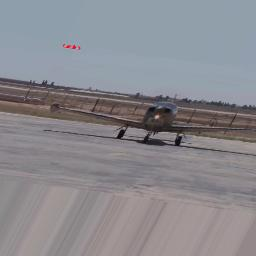Airplane: (48, 97, 253, 149)
